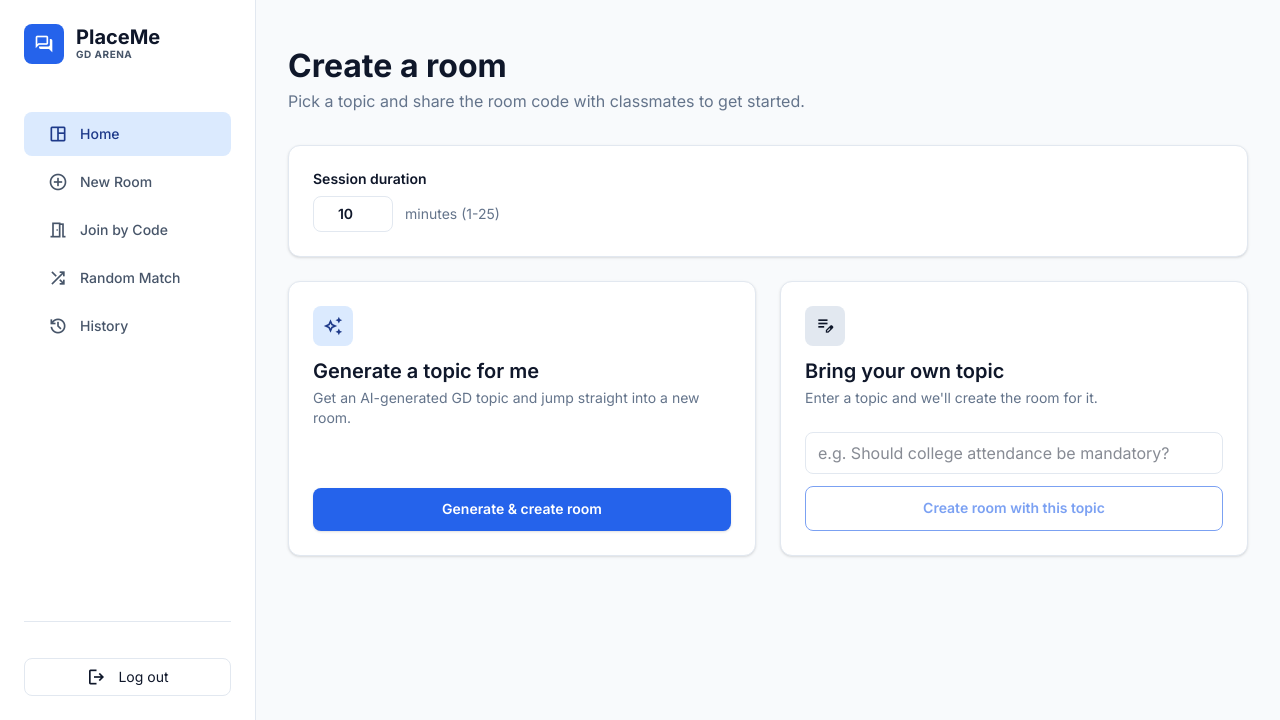
NewRoomPage busy state › shows a spinner and busy label on "Create room with this topic" while submitting
In the field with placeholder "e.g. Should college attendance be mandatory?": (1014, 454) [805,432,1223,474], type "Is remote work here to stay?"
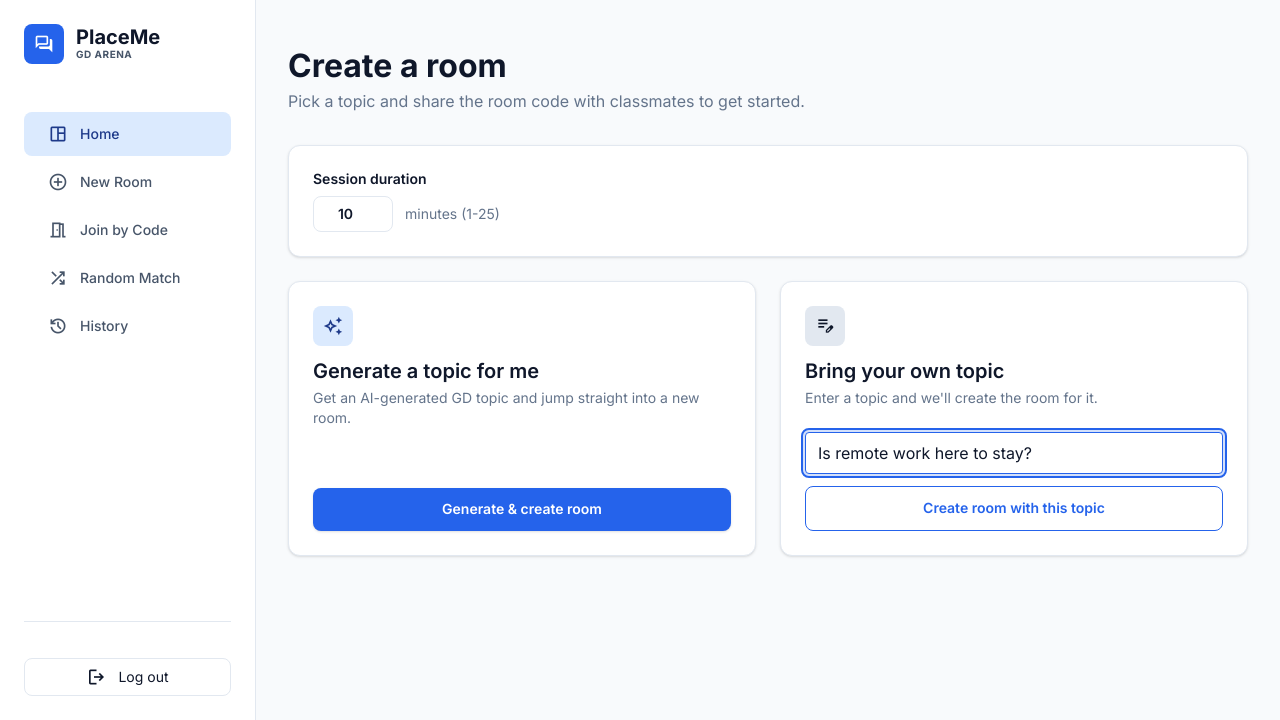
Click the button "Create room with this topic": (1014, 509) [805,486,1223,531]
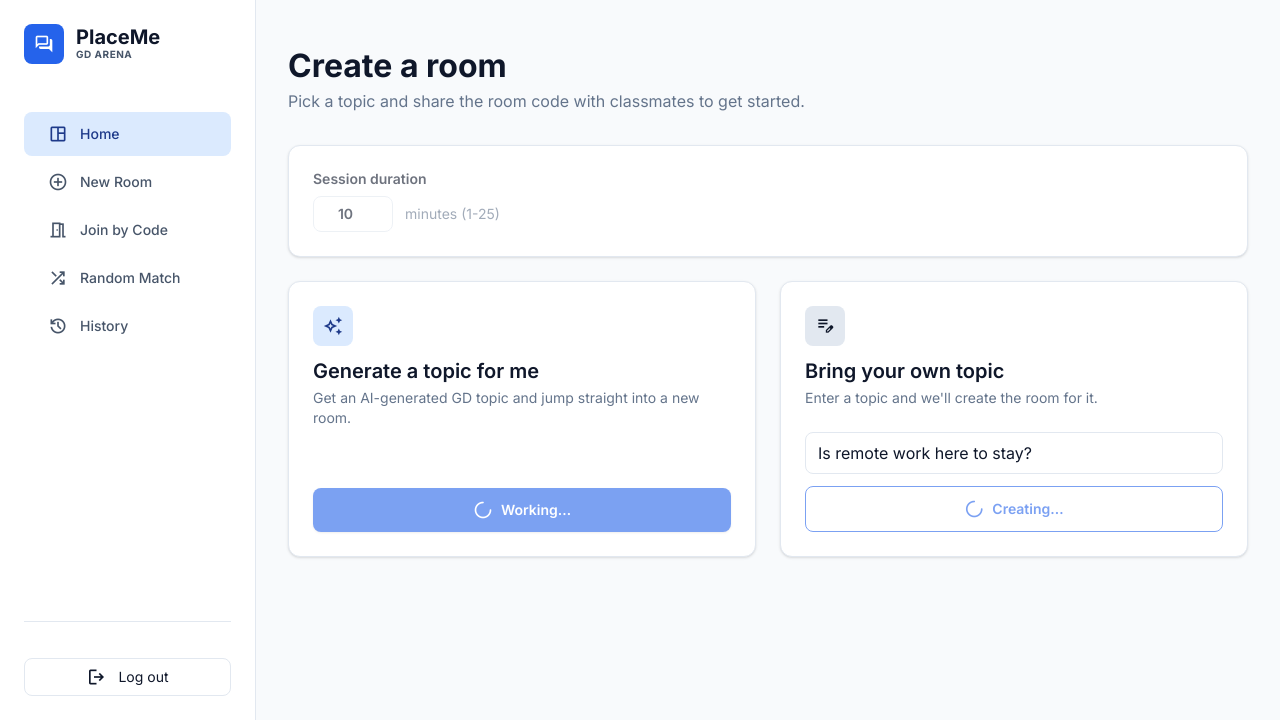
expect the text "Creating…" is shown: met, box [964,500,1064,520]
expect the 10th text "progress_activity" is shown: met, box [964,498,984,522]
